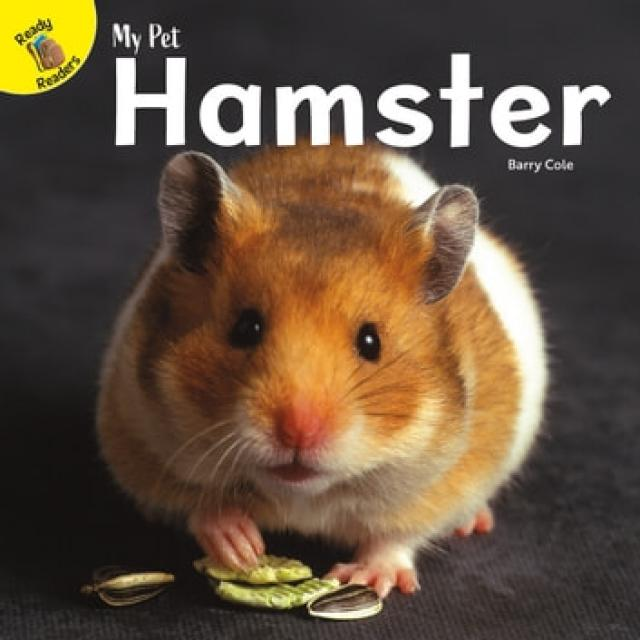hamster: (96, 139, 550, 598)
